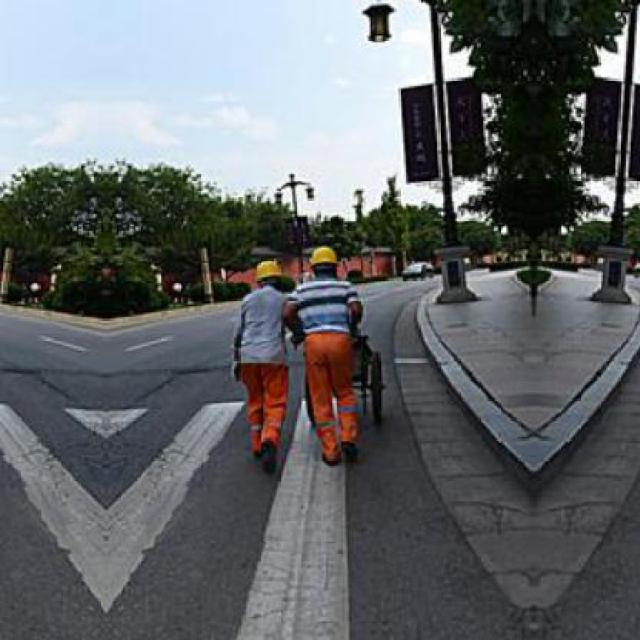helmet: (305, 242, 338, 278), (253, 253, 282, 292)
